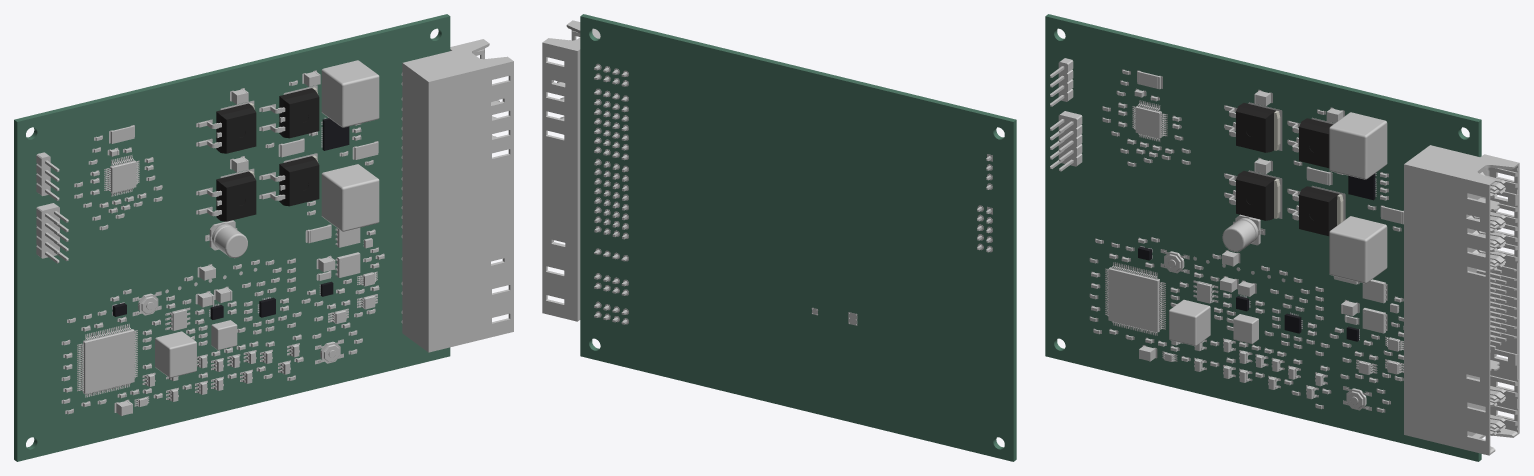
The model's file is board3.glb.
The picture shows the model from 3 angles, left to right: view 1: azimuth 30°, elevation 25°; view 2: azimuth 150°, elevation 25°; view 3: azimuth 330°, elevation 25°; orthographic projection.
Visible parts, largest first — view 1: Board3_PCB, C_0603_1608Metric, a3dd6ad7-9c39-11ed-93f0-dde97e994e83_part, body; view 2: Board3_PCB, C_0603_1608Metric; view 3: Board3_PCB, C_0603_1608Metric, a3dd6ad7-9c39-11ed-93f0-dde97e994e83_part, body, a3dd6ad8-9c39-11ed-93f0-dde97e994e83_part.
Part boxes in pixels (x1=…): Board3_PCB: x1=14, y1=14, x2=450, y2=461; C_0603_1608Metric: x1=36, y1=39, x2=513, y2=416; a3dd6ad7-9c39-11ed-93f0-dde97e994e83_part: x1=216, y1=88, x2=319, y2=221; body: x1=112, y1=118, x2=349, y2=319; Board3_PCB: x1=580, y1=14, x2=1016, y2=461; C_0603_1608Metric: x1=542, y1=20, x2=992, y2=325; Board3_PCB: x1=1045, y1=14, x2=1481, y2=461; C_0603_1608Metric: x1=1050, y1=58, x2=1519, y2=455; a3dd6ad7-9c39-11ed-93f0-dde97e994e83_part: x1=1236, y1=103, x2=1339, y2=236; body: x1=1138, y1=173, x2=1375, y2=341; a3dd6ad8-9c39-11ed-93f0-dde97e994e83_part: x1=1274, y1=110, x2=1343, y2=225.
Bounding box in the file's own units: 130 × 90 × 15.62.
